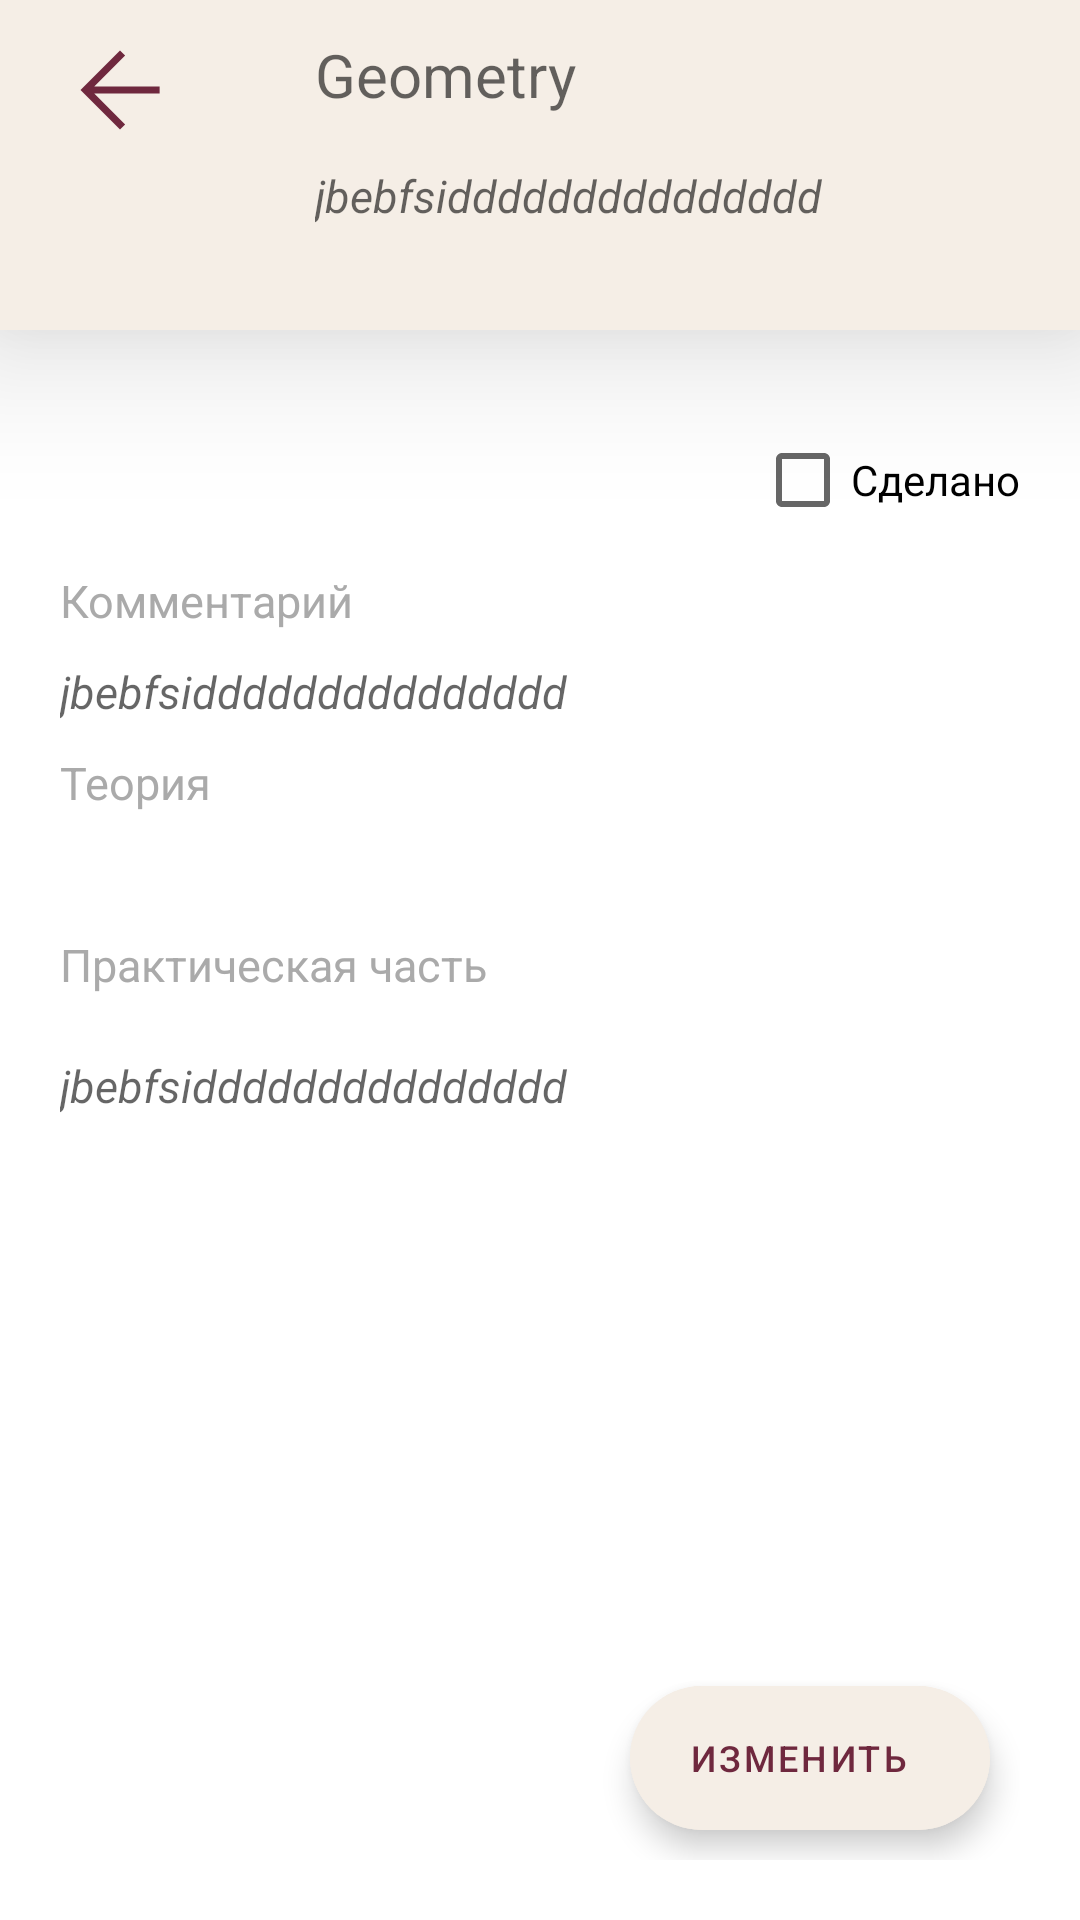

Icon click points for this 1080×1920 phone screenshot, format (x,y):
back: (120,90)
